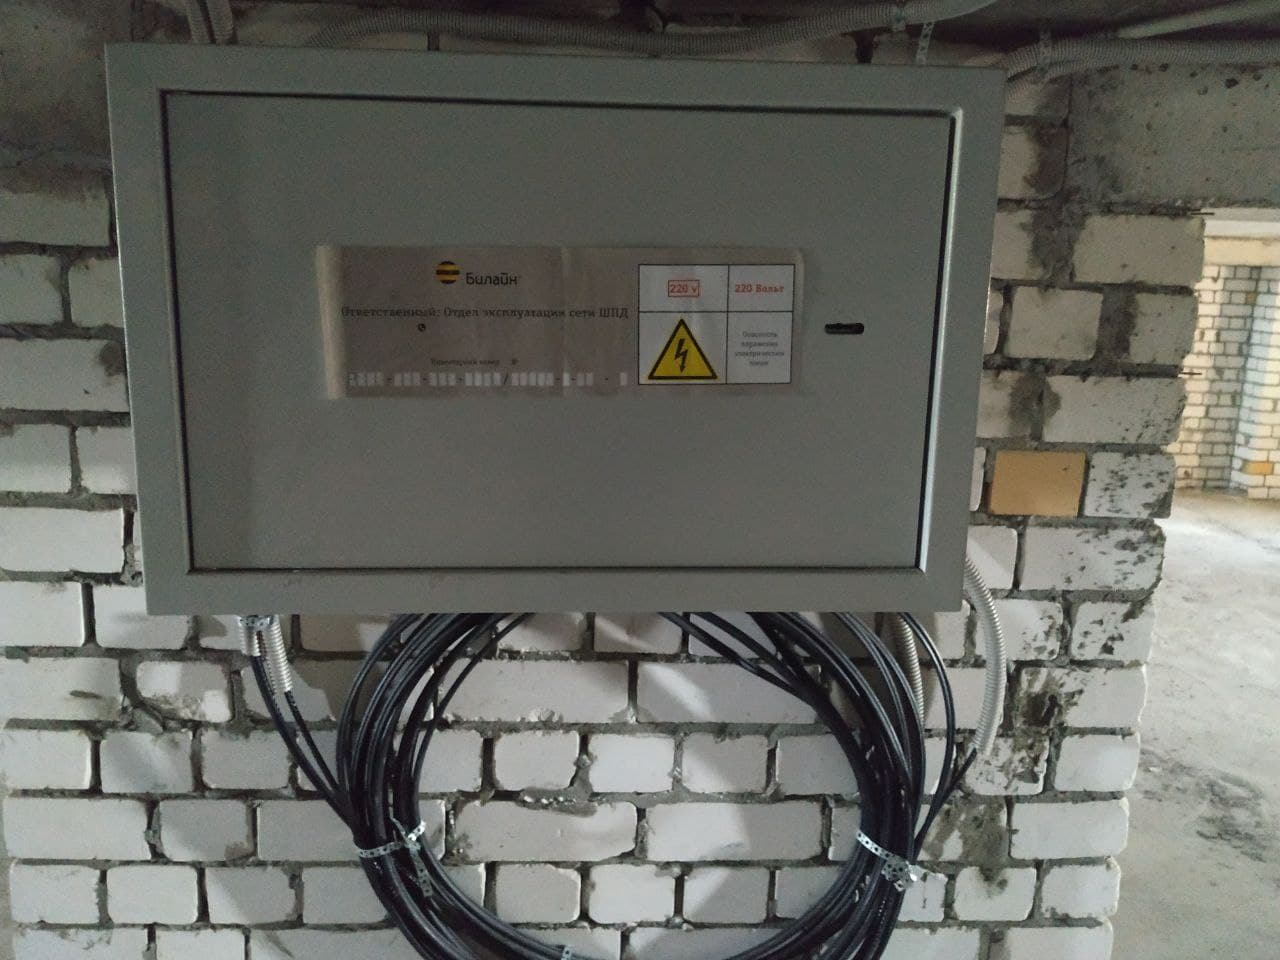shta-7m: (88, 29, 1017, 628)
